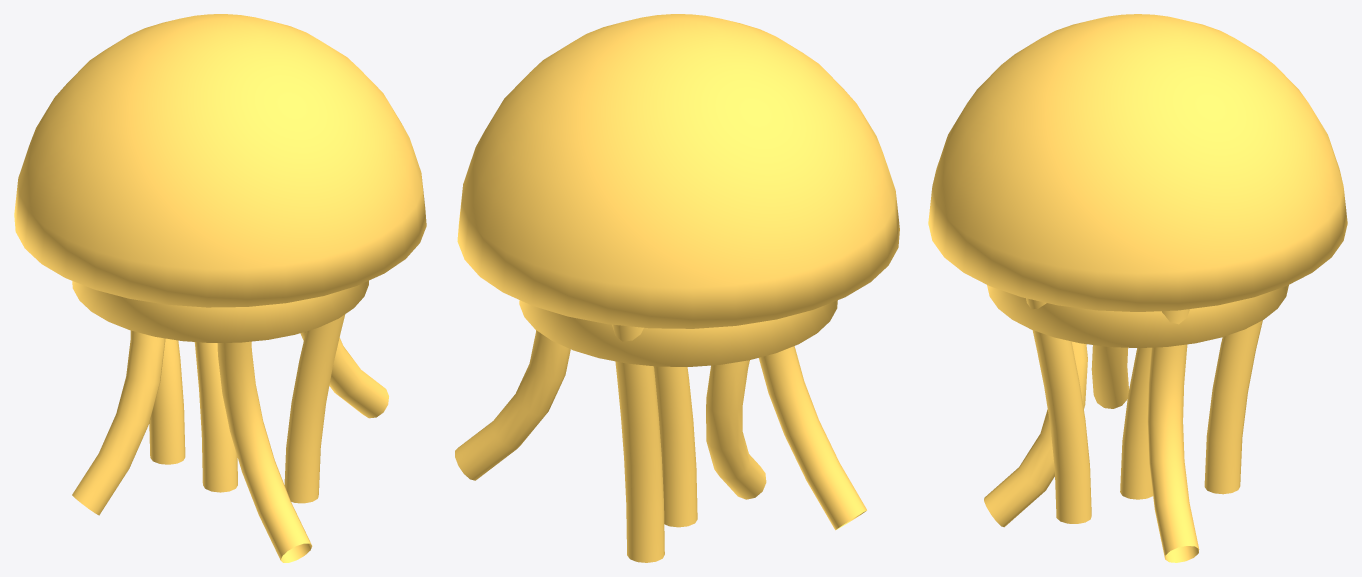
Rendered from Gold_Orb.glb.
3 views of the same model, side by side, from view 1: azimuth 30°, elevation 25°; view 2: azimuth 150°, elevation 25°; view 3: azimuth 270°, elevation 25° (orthographic). The views are drawn at different scales.
Parts seen in each view (by area): view 1: Gold_Orb; view 2: Gold_Orb; view 3: Gold_Orb.
Boxes of the visible parts, x1=… form: Gold_Orb: x1=14, y1=14, x2=426, y2=562; Gold_Orb: x1=455, y1=14, x2=899, y2=562; Gold_Orb: x1=928, y1=14, x2=1347, y2=562.
Bounding box in the file's own units: 0.4 × 0.5056 × 0.3926.
